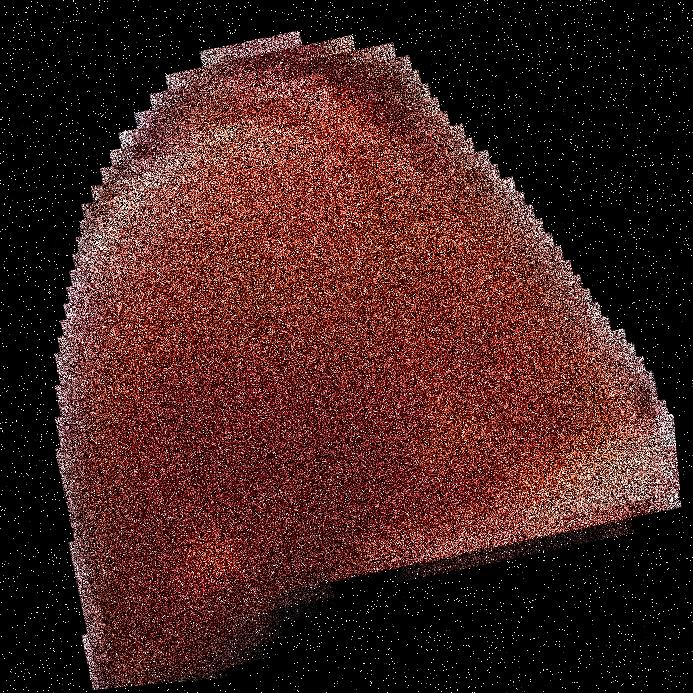Capacete: (70, 0, 547, 692)
